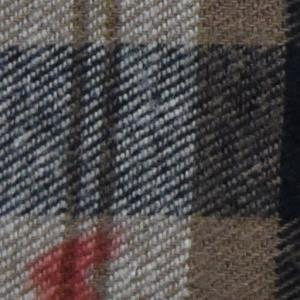Stain: (27, 216, 130, 300)
